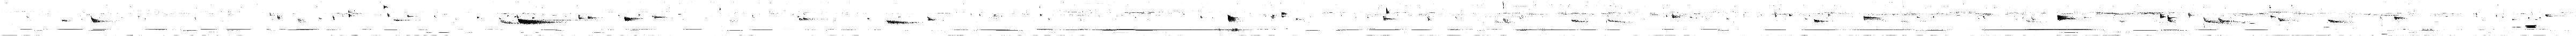meteor: (517, 15, 560, 25), (2203, 16, 2224, 25), (499, 16, 517, 25), (885, 20, 912, 25), (2057, 15, 2077, 21), (1863, 15, 1881, 21), (90, 16, 105, 23), (2328, 18, 2348, 23), (1607, 18, 1626, 23), (1227, 15, 1239, 23), (624, 16, 641, 21), (1571, 18, 1587, 23), (2167, 15, 2175, 23), (1382, 16, 1395, 21), (1814, 18, 1827, 23), (651, 15, 669, 18), (1672, 13, 1681, 20), (927, 16, 936, 21), (2159, 13, 2165, 20), (586, 15, 598, 18), (2394, 16, 2405, 20), (578, 15, 585, 20)
